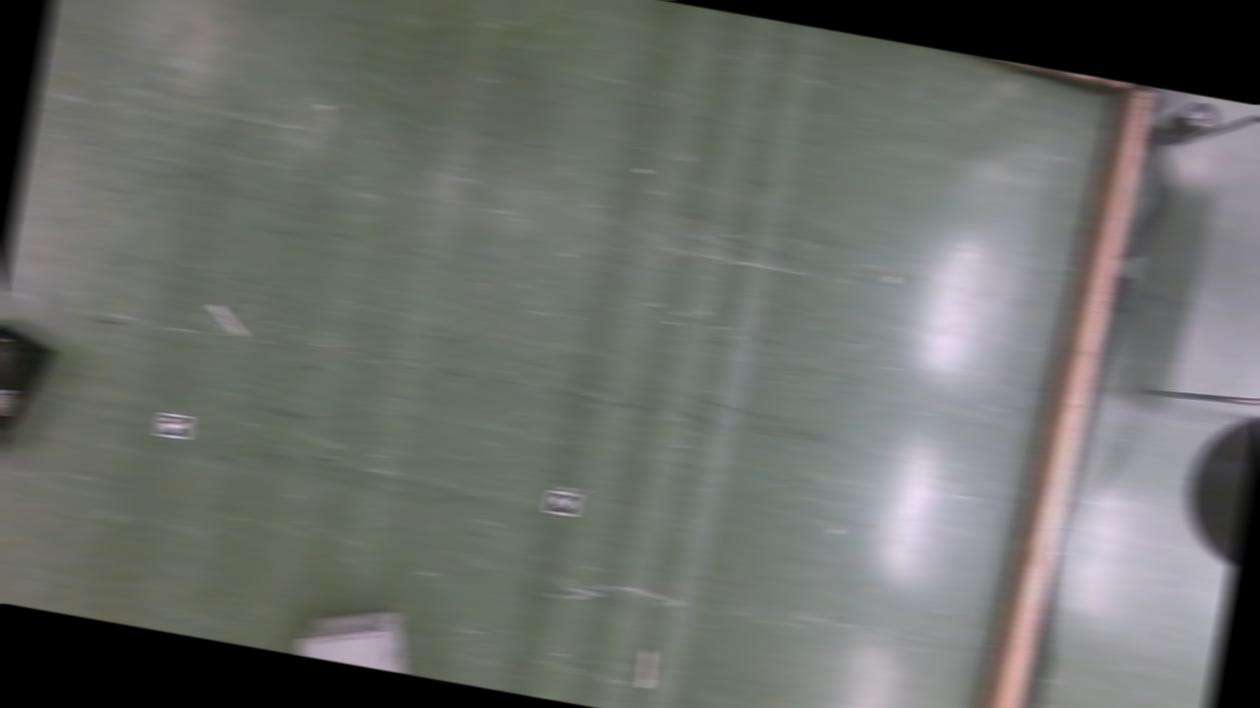probes: (206, 302, 248, 334), (637, 648, 656, 688)
rako: (293, 596, 417, 674), (0, 315, 59, 472)
